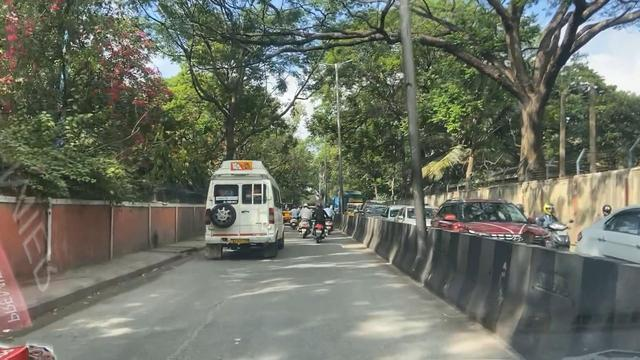HMV: (203, 160, 273, 256)
LMV: (303, 198, 337, 244)
